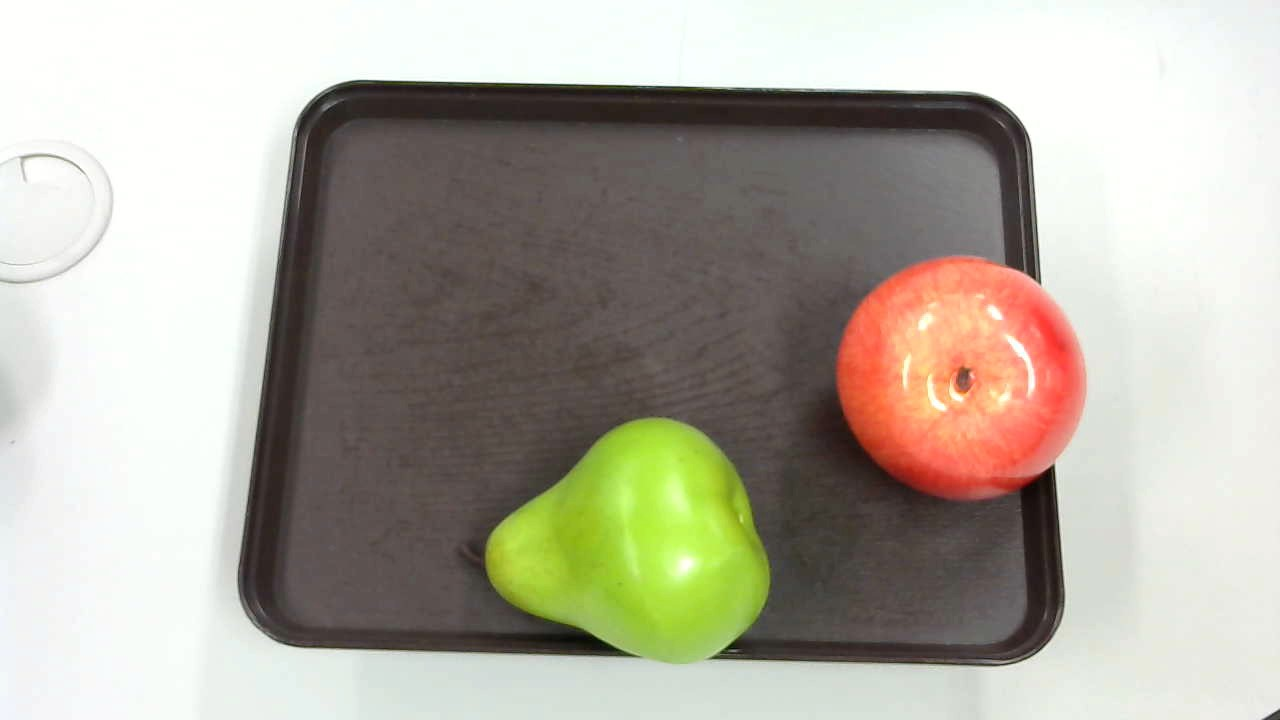green pear: (450, 417, 777, 666)
red apple: (824, 246, 1091, 507)
